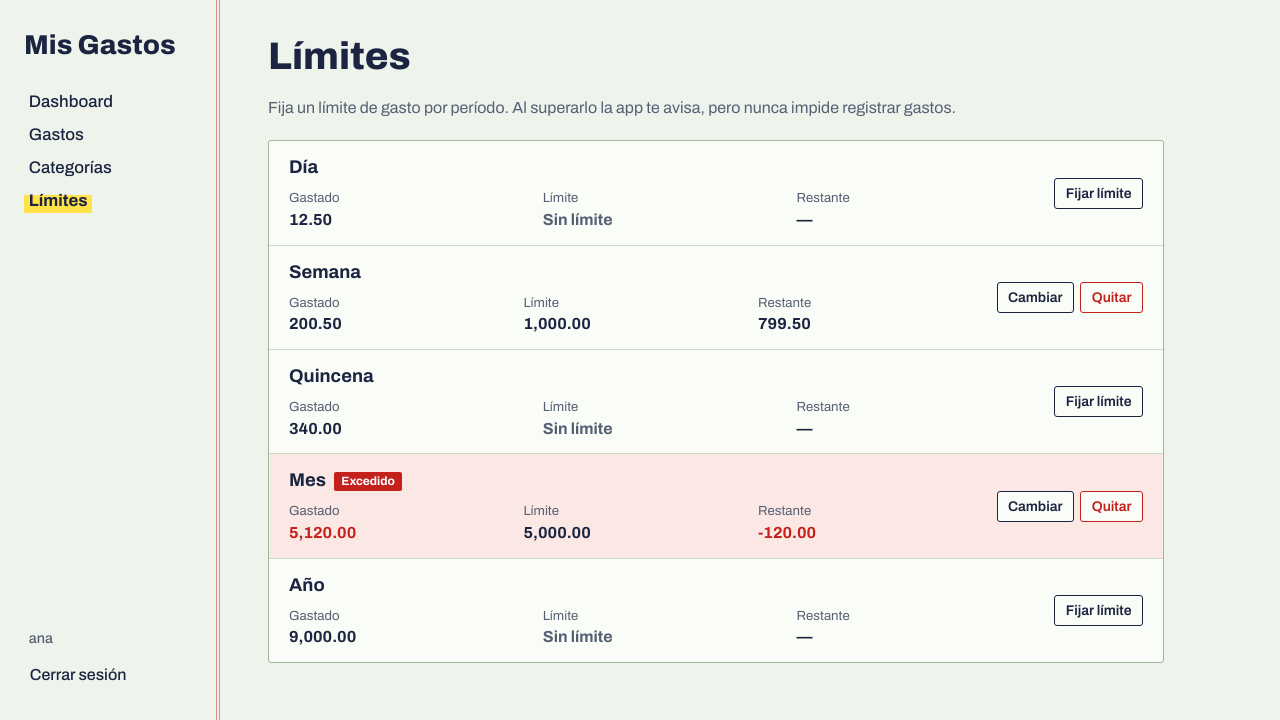
Test: LimitsPage: set, change and remove › sets a limit for a period that had none
This screenshot has width=1280, height=720.
expect the heading "Límites" is shown: met, box x1=268 y1=36 x2=411 y2=76
Click the button with aria-label "Fijar límite de Día". click: [1099, 193]
box: x1=1054 y1=178 x2=1143 y2=208
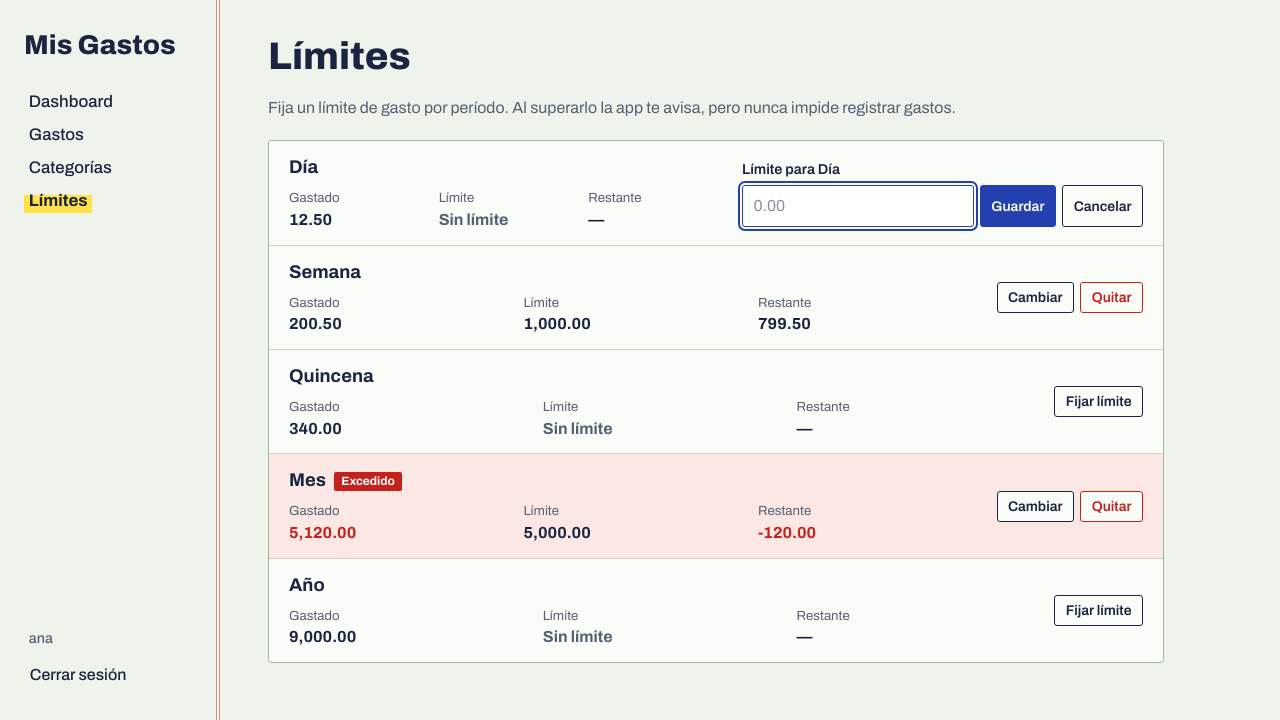
expect the field labelled "Límite para Día" is empty: met
Type "300" into the field labelled "Límite para Día". click: [858, 206]
box: x1=742 y1=185 x2=974 y2=227
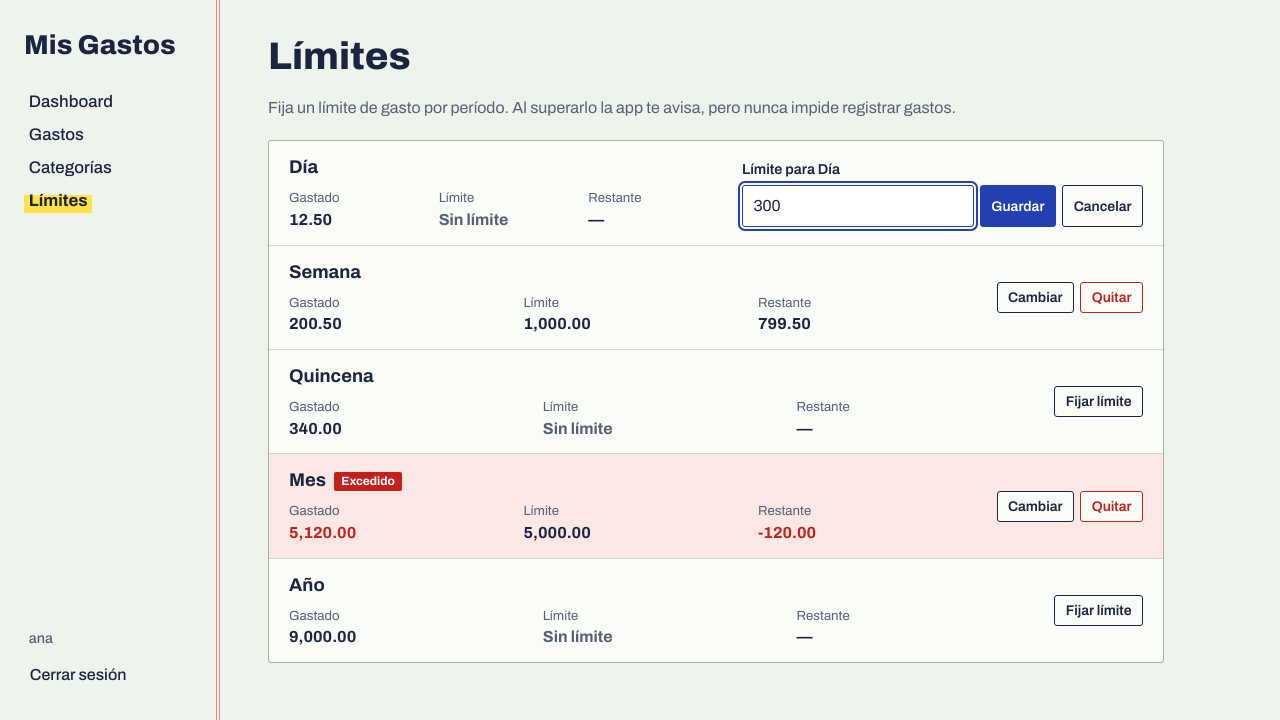
Click the button "Guardar". click: [1018, 206]
box: x1=980 y1=185 x2=1056 y2=227
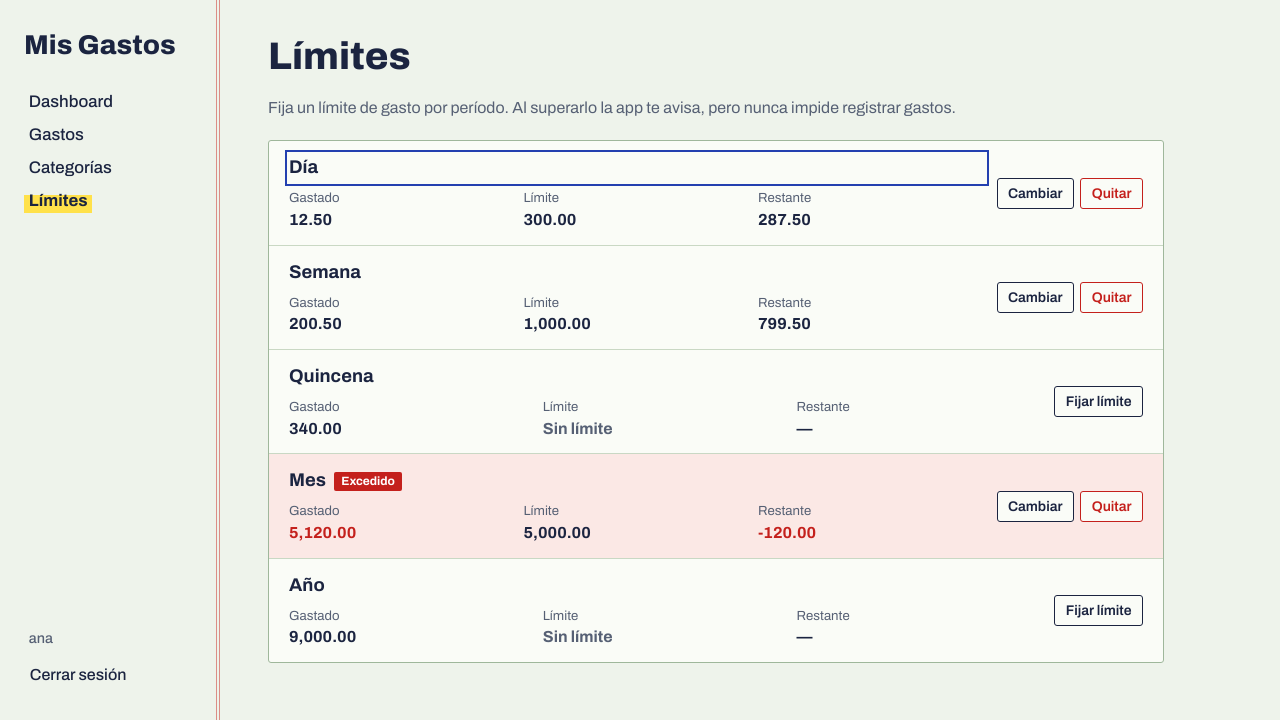
expect the text "300.00" is shown: met, box x1=524 y1=211 x2=576 y2=228
expect the text "287.50" is shown: met, box x1=758 y1=211 x2=811 y2=228
expect the button with aria-label "Cambiar límite de Día" is shown: met, box x1=996 y1=178 x2=1074 y2=208
